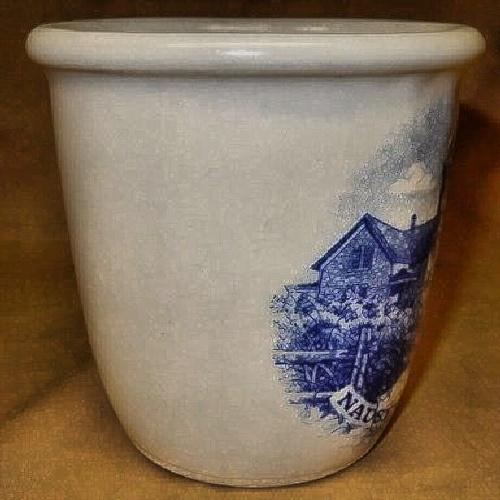mug: (36, 17, 479, 477)
